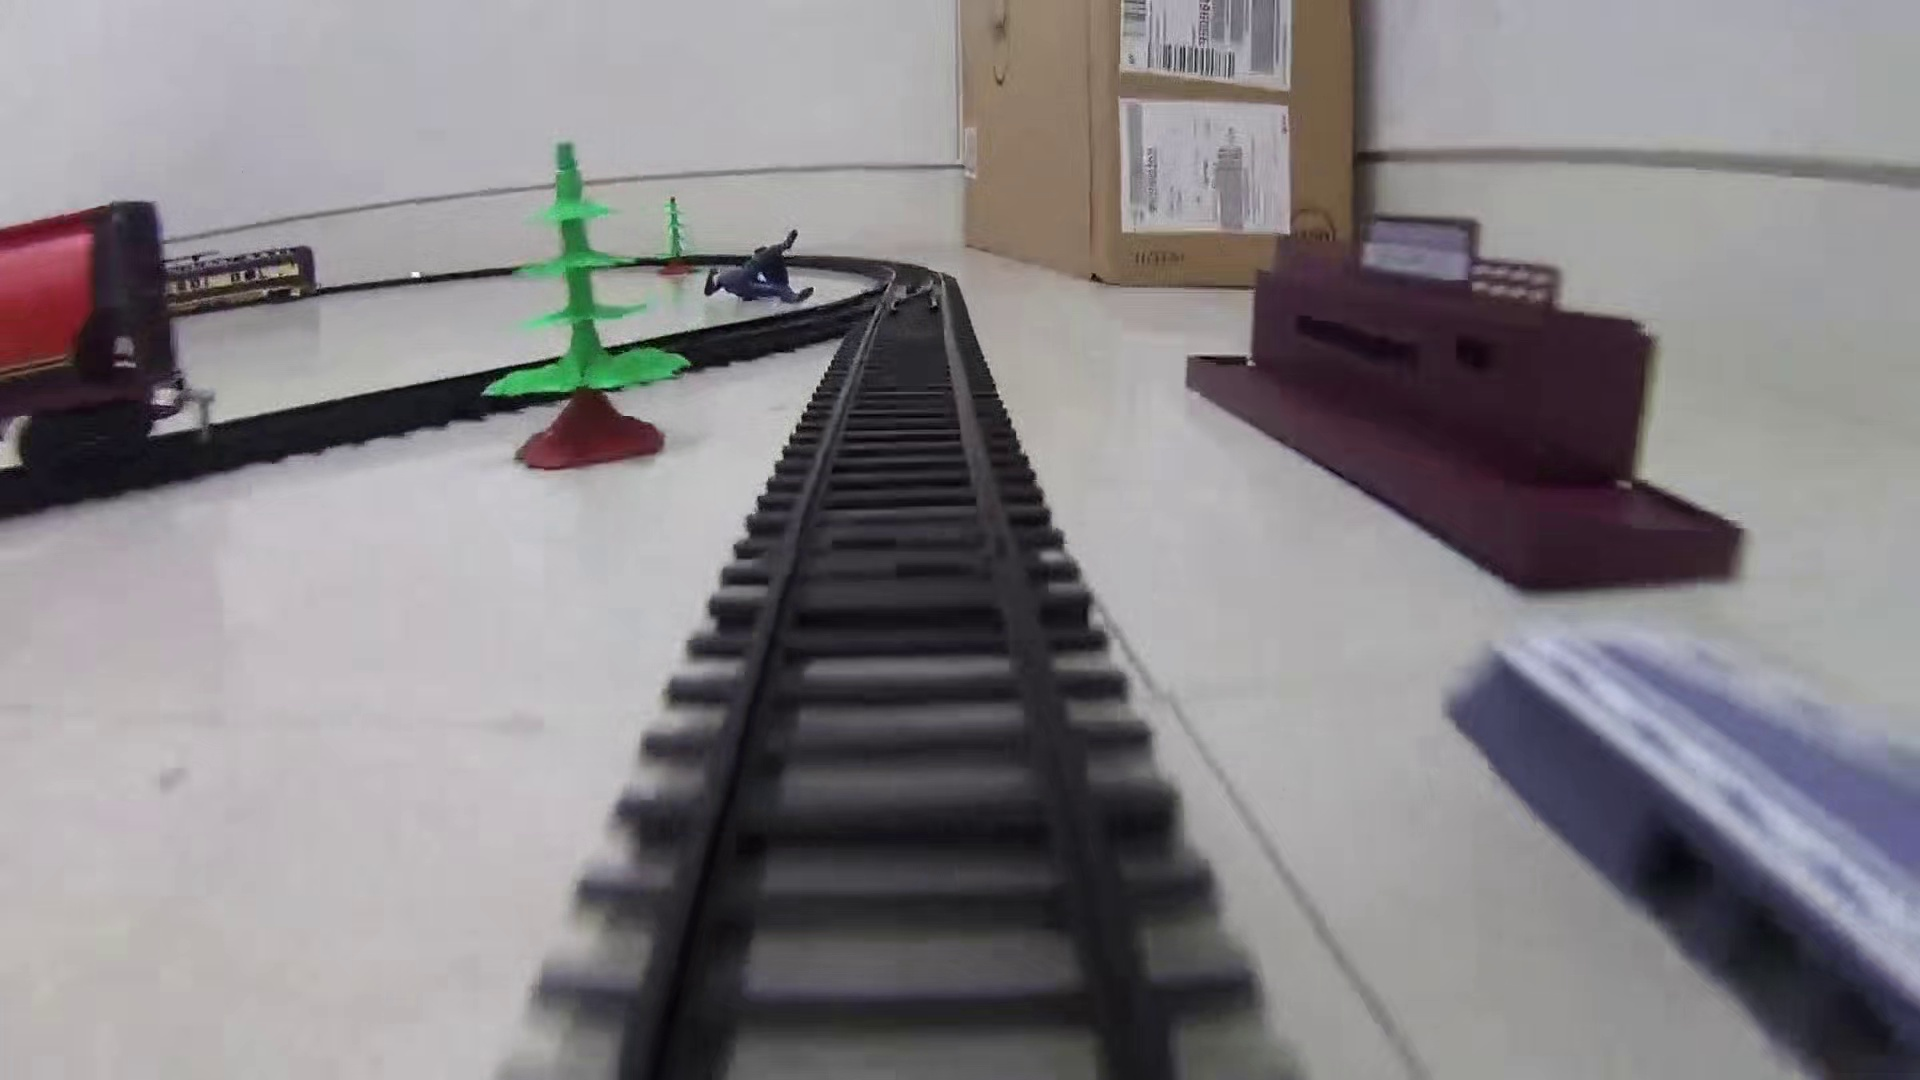people: (701, 224, 818, 311)
tree: (485, 136, 691, 472), (655, 192, 700, 281)
